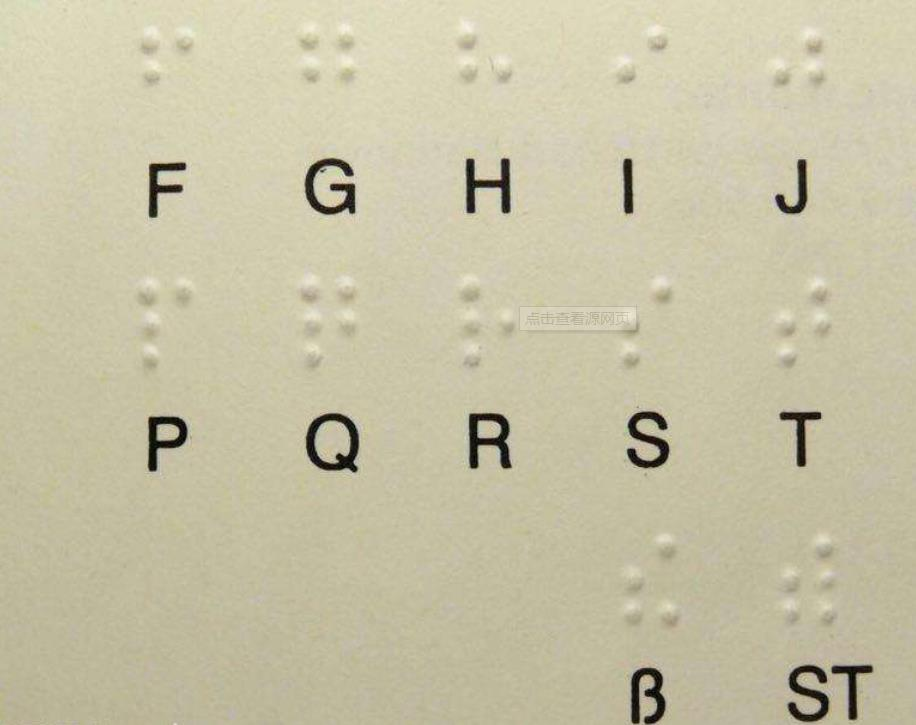Braille: (614, 270, 676, 369), (299, 274, 360, 372), (137, 277, 199, 372), (458, 274, 519, 370), (455, 23, 517, 115), (624, 534, 682, 629), (297, 23, 361, 109), (778, 279, 834, 371), (615, 23, 670, 115), (784, 537, 839, 626), (140, 27, 199, 109), (773, 33, 827, 118)
